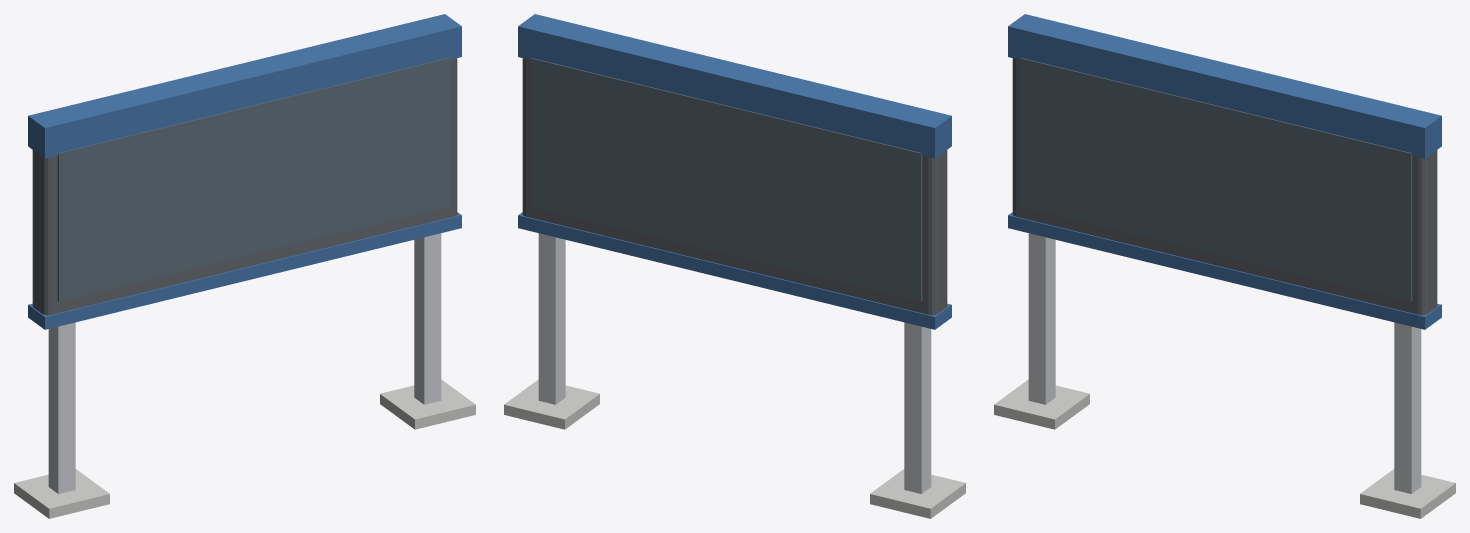
File: departure-board.glb
3 views of the same model, side by side, from view 1: azimuth 30°, elevation 25°; view 2: azimuth 150°, elevation 25°; view 3: azimuth 330°, elevation 25° (orthographic).
Parts seen in each view (by area): view 1: departure-board; view 2: departure-board; view 3: departure-board.
Boxes of the visible parts, left/top/right/bottom form: departure-board: left=14, top=14, right=475, bottom=518; departure-board: left=504, top=14, right=965, bottom=518; departure-board: left=994, top=14, right=1455, bottom=518.
Size of the model in its own units: 3.5 by 3 by 0.4999.
